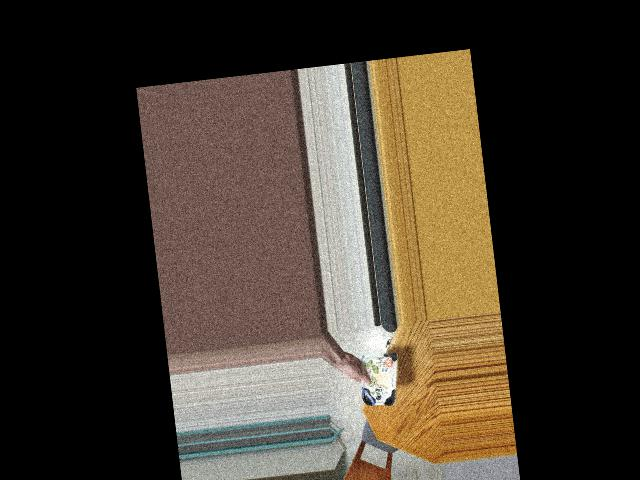cheese: (350, 351, 403, 407)
